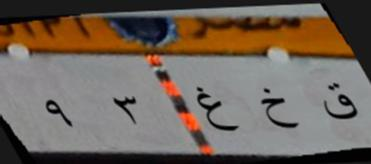3: (113, 86, 142, 136)
9: (36, 89, 82, 134)
ghayn: (196, 80, 240, 140)
khaa: (252, 82, 302, 140)
qaaf: (314, 78, 359, 130)
